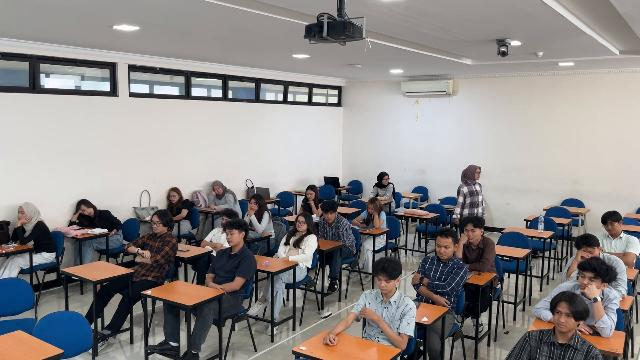bosan: (554, 306, 574, 332), (578, 272, 600, 292), (367, 203, 383, 226), (436, 239, 451, 260), (376, 275, 393, 293), (464, 226, 479, 242), (225, 229, 239, 245), (604, 220, 620, 234), (152, 216, 164, 233), (578, 246, 598, 256), (80, 203, 93, 216), (17, 206, 27, 222), (297, 216, 307, 231), (323, 211, 335, 223), (249, 199, 258, 211), (306, 190, 315, 201), (170, 191, 178, 202), (214, 186, 223, 195)
